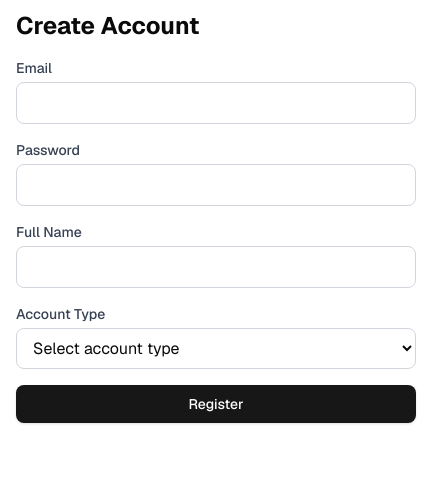
Scenario: RegistrationForm › submits registration form with valid credentials
In the field labelled "Email": (216, 103) 16,82 -> 416,124, type "test@example.com"
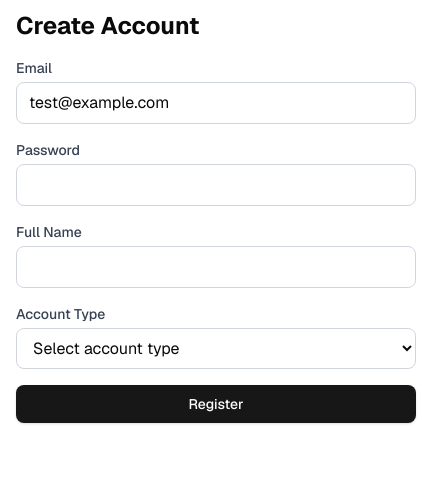
In the password field labelled "Password": (216, 185) 16,164 -> 416,206, type "password123"
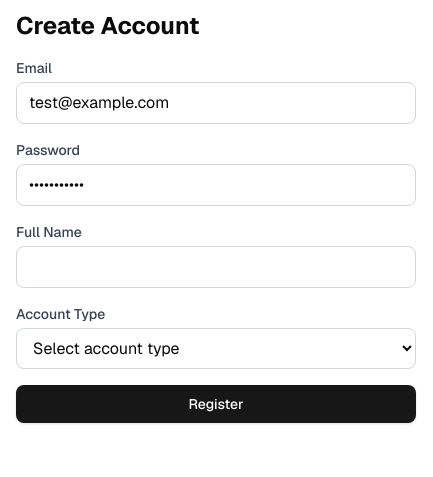
In the field labelled "Full Name": (216, 267) 16,246 -> 416,288, type "Test User"
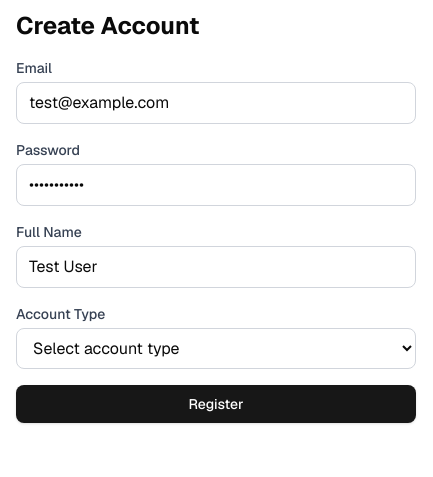
Select "Job Seeker" in the dropdown labelled "Account Type": (216, 348) 16,328 -> 416,369
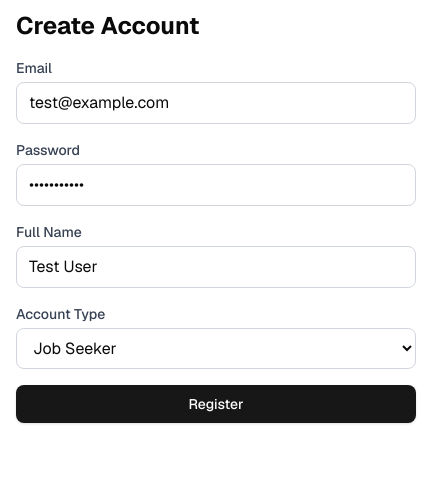
Click the button "Register": (216, 404) 16,385 -> 416,423
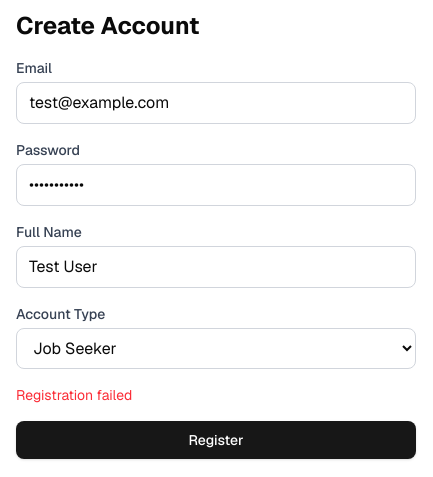
Expected: the text "Registration failed" is shown, 16,386 -> 132,404
